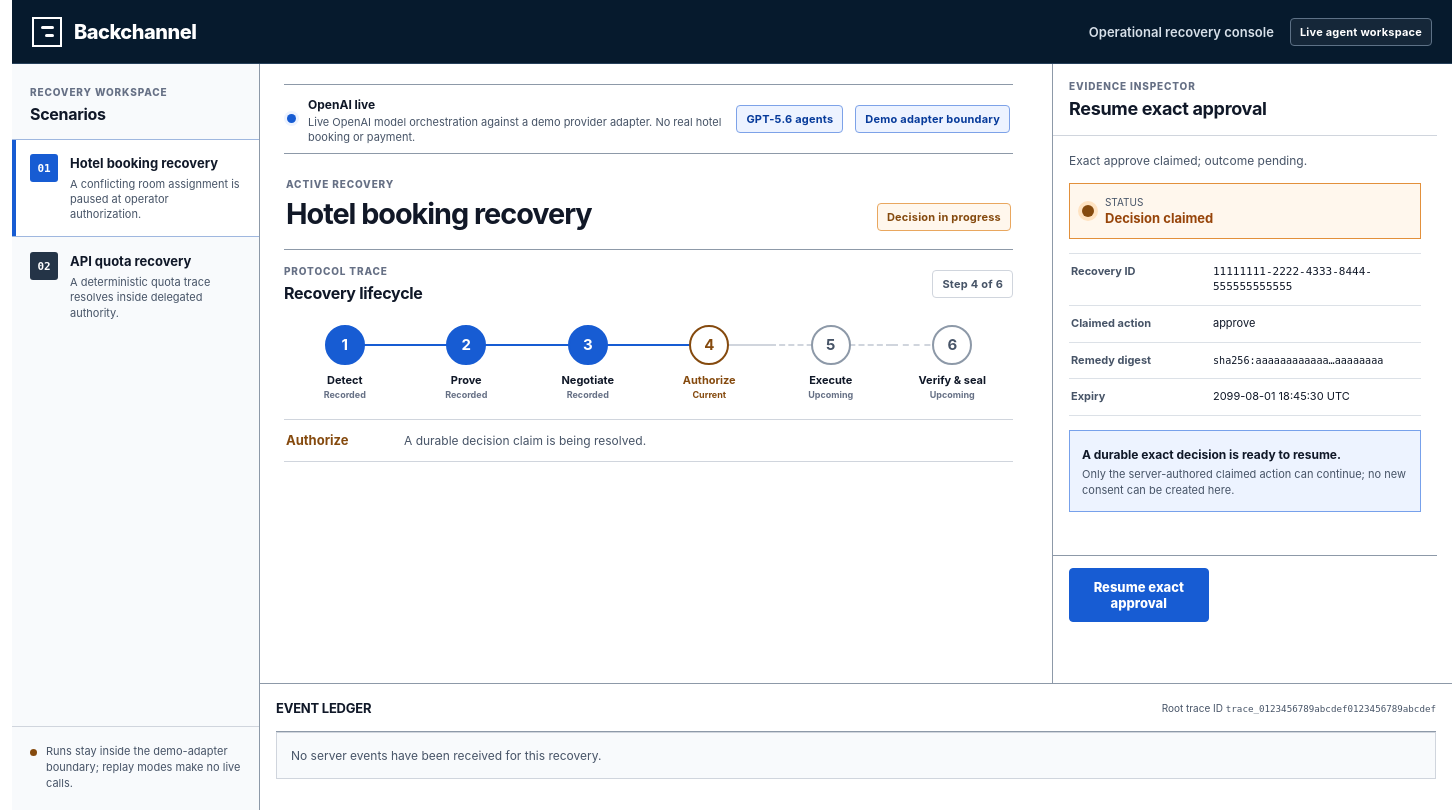
explicit, reload-safe live recovery › restores a durable claim without posting until the explicit resume action
Click the button "Resume exact approval".
click(1139, 595)  # box [1069,568,1209,622]
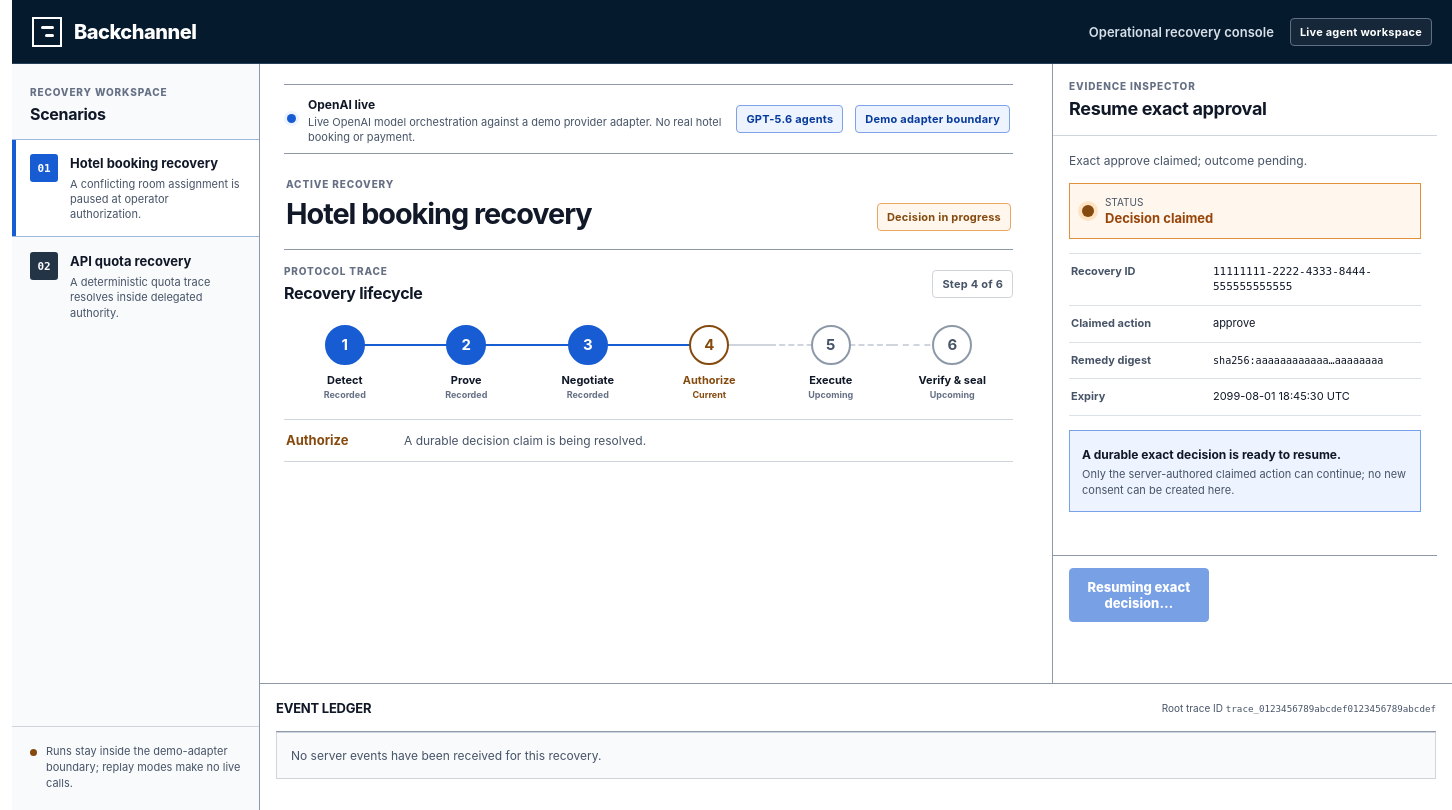
Click the button named "Resume exact approval".
click(1139, 595)  # box [1069,568,1209,622]
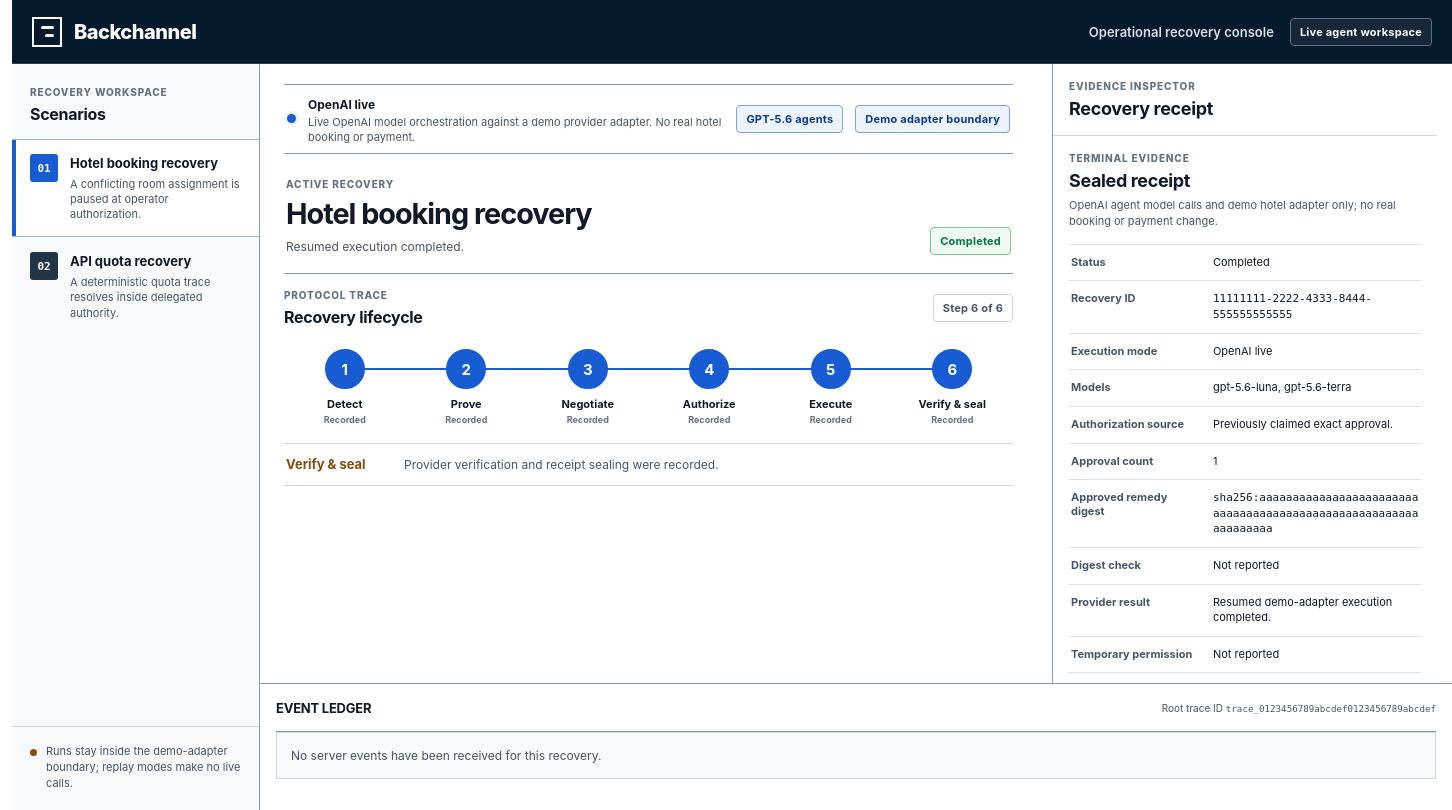
Now the text "Resumed execution completed." is shown, box [286,239,464,254]
